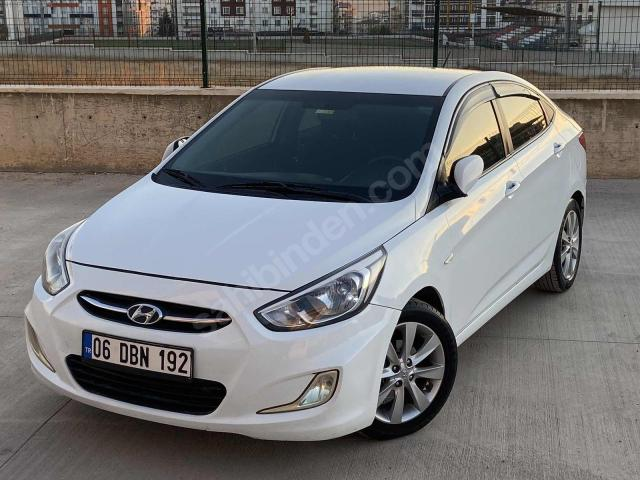plaka: (82, 332, 192, 377)
